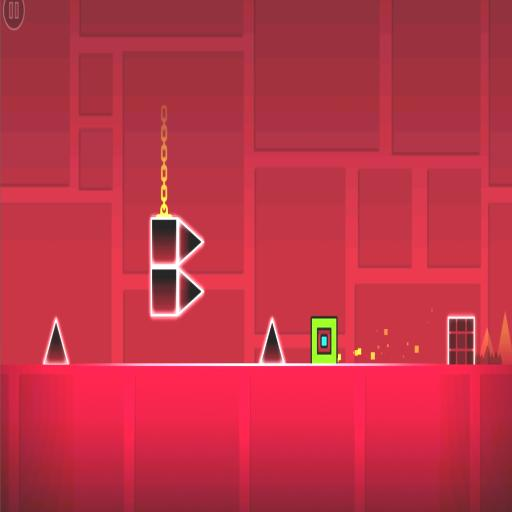block: (146, 216, 179, 316), (445, 312, 479, 370)
player: (311, 317, 338, 362)
spike: (43, 319, 67, 364), (259, 319, 283, 363), (177, 271, 202, 313), (177, 221, 202, 263), (497, 314, 511, 364), (480, 328, 494, 356)
